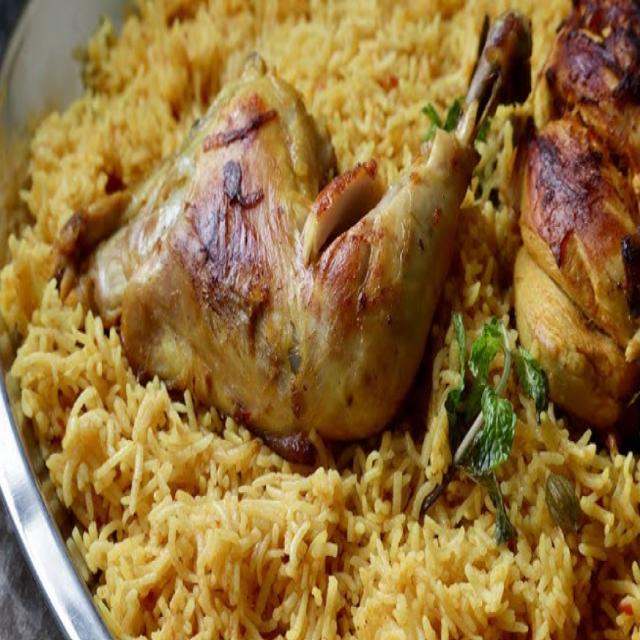Machboos: (53, 16, 640, 576)
